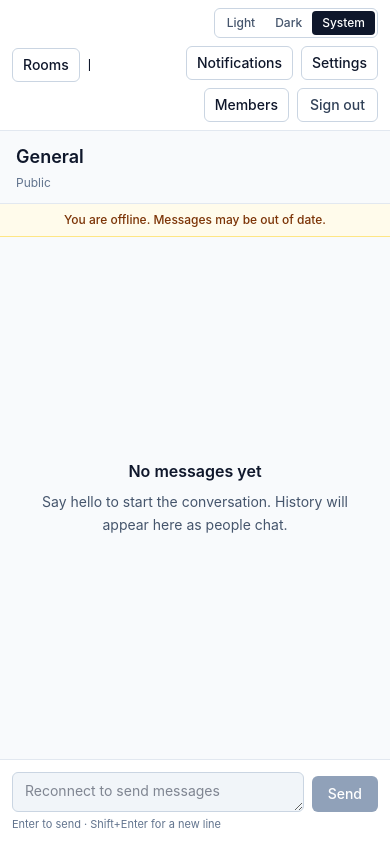
Test: ChatLayout › opens the members drawer for the current room
Expected: the heading "General" is shown, [16,143,84,171]
Click the button "Members": coordinates (246, 105) [204,88,289,122]
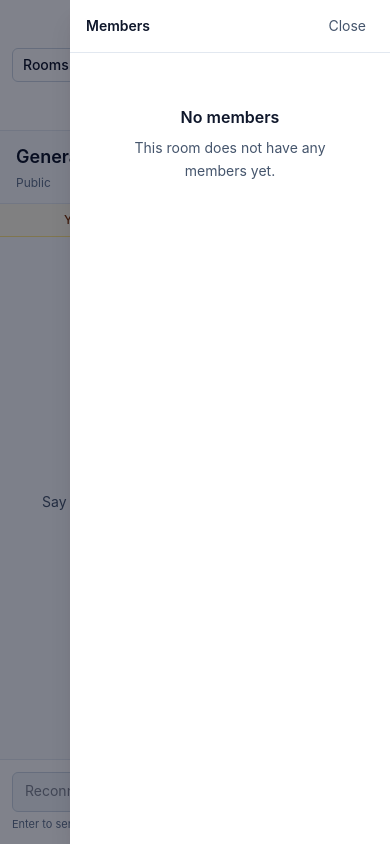
Result: the dialog "Members" is shown
